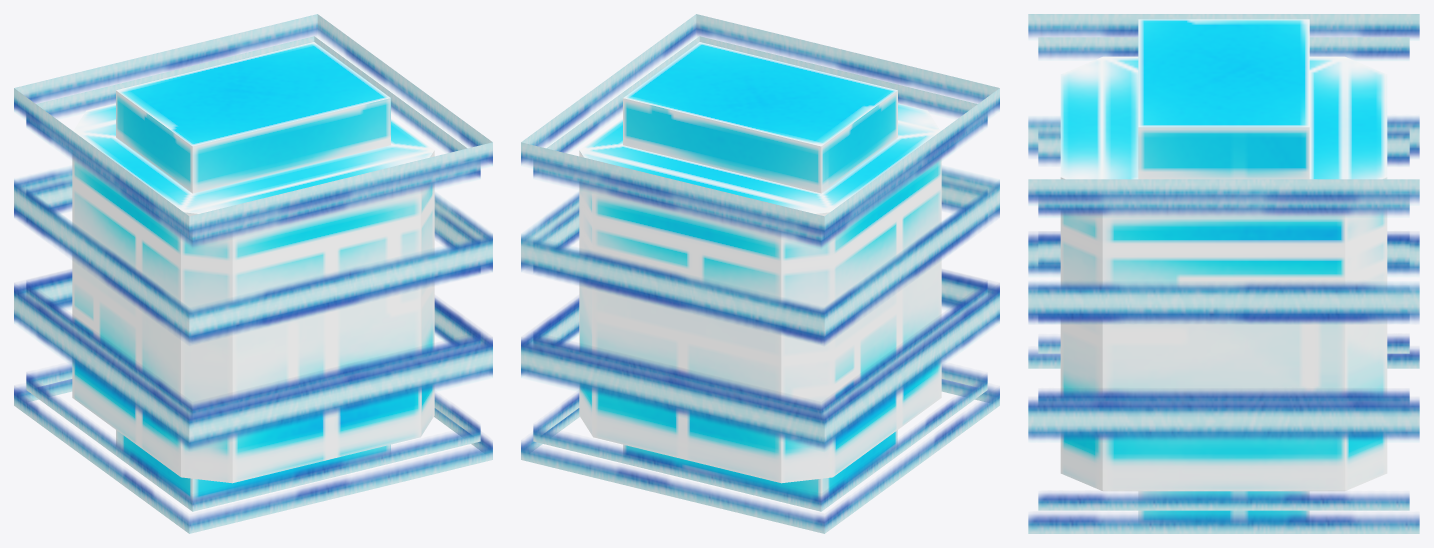
File: alien_part.glb
The picture shows the model from 3 angles, left to right: view 1: azimuth 30°, elevation 25°; view 2: azimuth 150°, elevation 25°; view 3: azimuth 270°, elevation 25°; orthographic projection. The views are drawn at different scales.
Parts seen in each view (by area): view 1: Core, Laser beams, Laser beams.001; view 2: Core, Laser beams, Laser beams.001; view 3: Core, Laser beams, Laser beams.001.
Boxes of the visible parts, x1,y1,x2,y2 form: Core: (72, 42, 434, 503); Laser beams: (14, 14, 492, 533); Laser beams.001: (26, 36, 480, 511); Core: (579, 42, 941, 501); Laser beams: (521, 14, 999, 533); Laser beams.001: (533, 36, 987, 511); Core: (1060, 19, 1387, 524); Laser beams: (1028, 14, 1419, 533); Laser beams.001: (1038, 37, 1409, 510).
Size of the model in its own units: 2 by 2.26 by 2.
2 materials, 2 textured.
